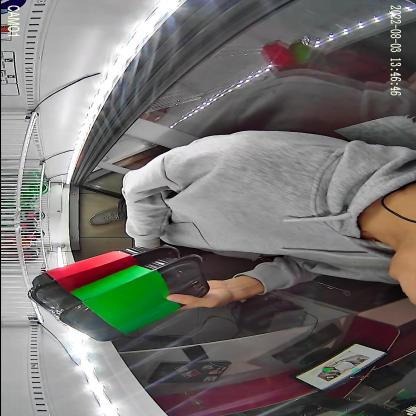green: (53, 254, 210, 343)
red: (26, 244, 180, 322)
